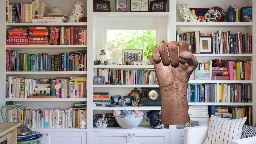Pugno: (149, 39, 199, 85)
